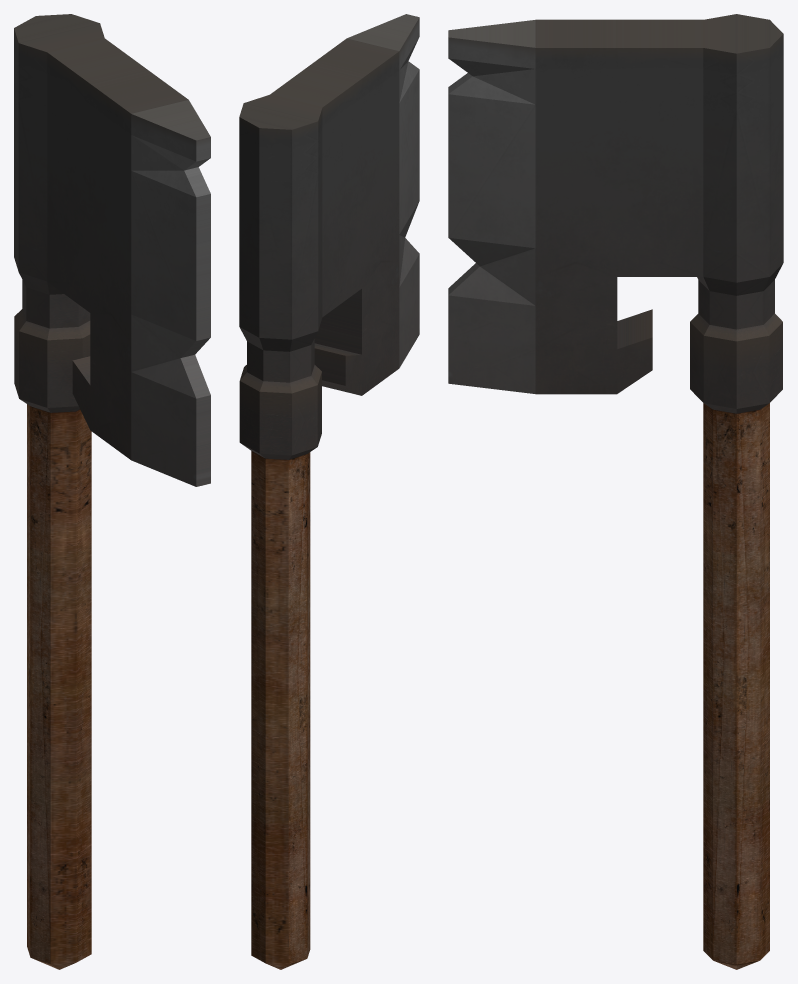
The model's file is axe_l.obj.
3 views of the same model, side by side, from view 1: azimuth 30°, elevation 25°; view 2: azimuth 150°, elevation 25°; view 3: azimuth 270°, elevation 25° (orthographic). The views are drawn at different scales.
Visible parts, largest first — view 1: Mesh; view 2: Mesh; view 3: Mesh.
Boxes of the visible parts, x1,y1,x2,y2 form: Mesh: (14, 14, 210, 969); Mesh: (239, 14, 419, 969); Mesh: (448, 14, 783, 969).
Size of the model in its own units: 0.3375 by 3.71 by 1.2.
